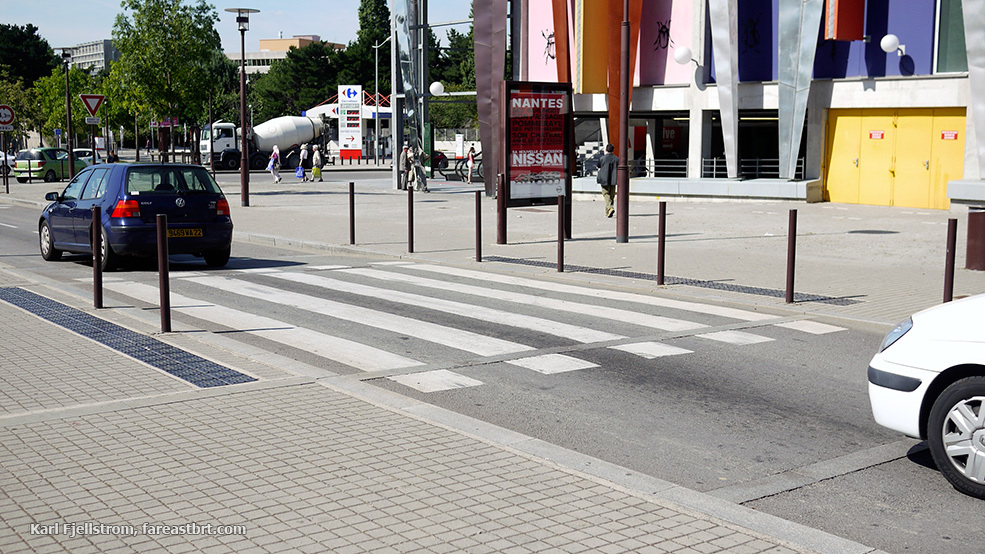bollard: (152, 215, 174, 337), (785, 206, 801, 302), (87, 208, 102, 310), (654, 200, 671, 289), (944, 218, 957, 300), (553, 201, 568, 272), (344, 182, 358, 249), (473, 189, 483, 262), (407, 183, 417, 251)
zebracross: (188, 275, 799, 383)
